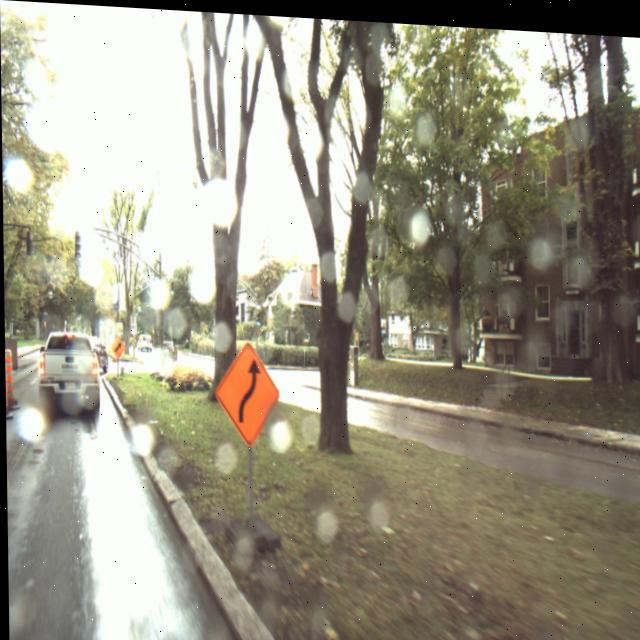car: (37, 329, 99, 417), (93, 341, 108, 375), (136, 332, 152, 351)
trafficLight: (73, 230, 81, 261)
trafficLight-Green: (254, 307, 261, 323), (169, 279, 174, 293)
